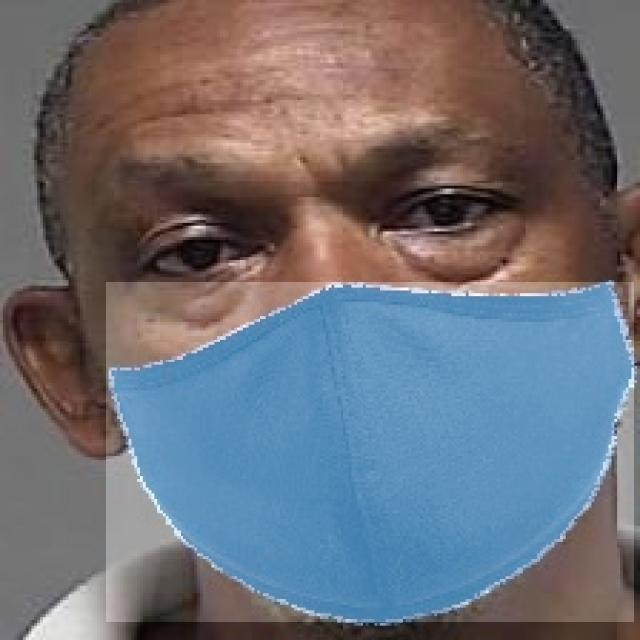mask: (106, 283, 634, 622)
